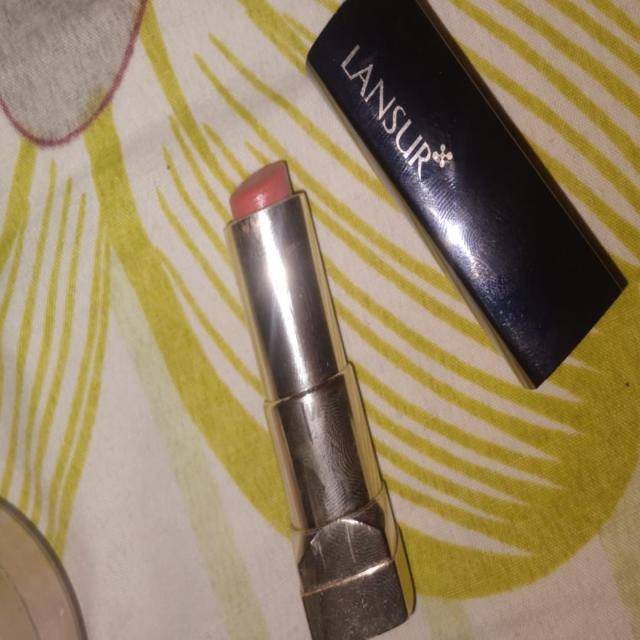lip shade: (296, 0, 633, 416)
lip stick: (232, 155, 418, 634)
